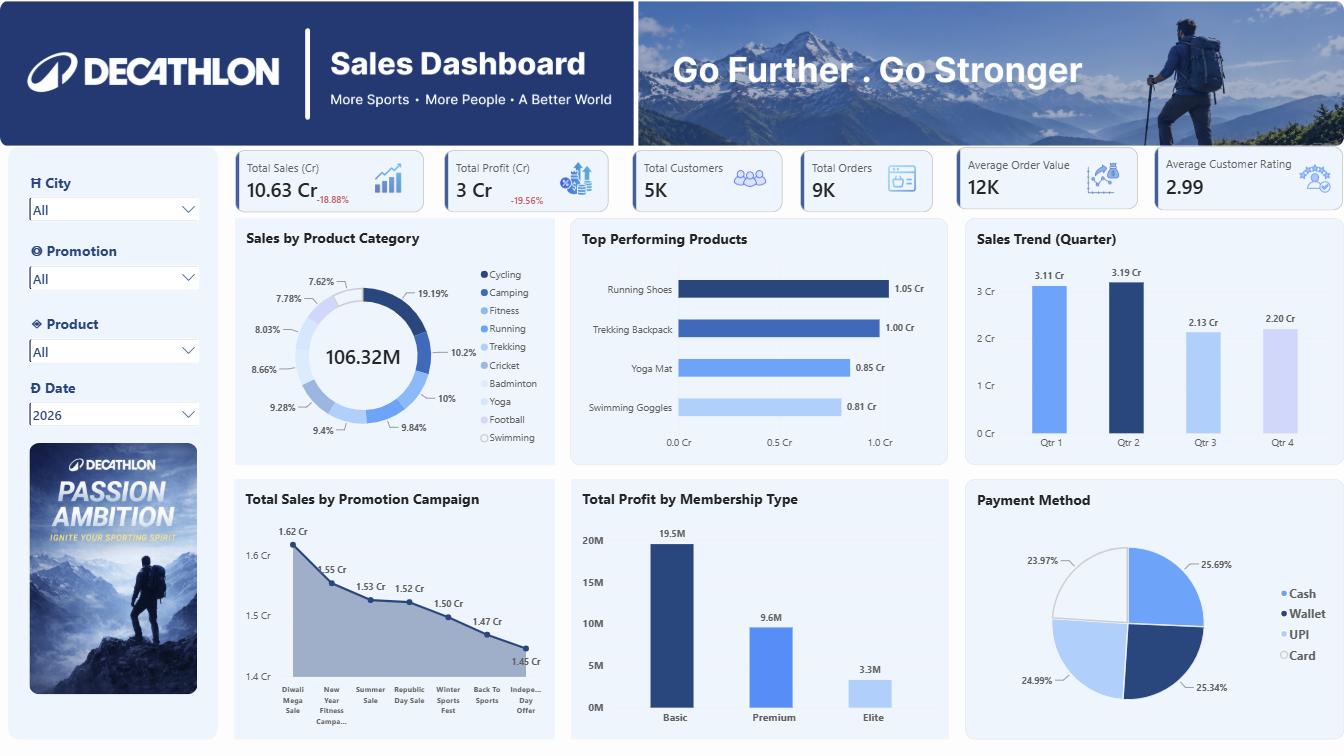

This screenshot's page, from the dashboard's own definition file:
{"tool":"powerbi","page":{"name":"Page 1","canvas":[1920,1080],"ordinal":0},"visuals":[{"type":"cardVisual","fields":{"Data":["Sheet1.Total Profit (Cr)"]},"box":[634.4,214.4,235.6,89.3],"z":0},{"type":"image","box":[0,0,1920,210.1],"z":1000},{"type":"cardVisual","fields":{"Data":["Sheet1.Total Sales (Cr)"]},"box":[335.6,214.4,271,89.3],"z":2000},{"type":"cardVisual","fields":{"Data":["Date.Sales YOY"]},"box":[432,272,77.5,25.8],"z":3000},{"type":"donutChart","title":"Sales by Product Category","fields":{"Category":["Sheet1.Product_Category"],"Y":["Sum(Sheet1.Final_Amount)"]},"box":[335.7,311,457.3,352.6],"z":4000},{"type":"barChart","title":"Top Performing Products","fields":{"Category":["Sheet1.Product_Name"],"Y":["Sheet1.Total Sales (Cr)"]},"box":[814.5,311,540.4,352.6],"z":5000},{"type":"columnChart","title":"Sales Trend (Quarter)","fields":{"Category":["Date.Date.Variation.Date Hierarchy.Quarter"],"Y":["Sheet1.Total Sales (Cr)"]},"box":[1378,311,542,352.6],"z":6000},{"type":"cardVisual","fields":{"Data":["Sheet1.Total Customers"]},"box":[903.3,214.4,215.6,89.3],"z":7000},{"type":"cardVisual","fields":{"Data":["Sheet1.Total Orders"]},"box":[1143.3,214.4,190.9,89.3],"z":8000},{"type":"cardVisual","fields":{"Data":["Sheet1.Average Order Value"]},"box":[1365.7,209.4,260.2,89.3],"z":9000},{"type":"cardVisual","fields":{"Data":["Sheet1.Average Customer Rating"]},"box":[1649,207.9,271,92.4],"z":10000},{"type":"cardVisual","fields":{"Data":["Date.Profit YOY"]},"box":[713,273,77,24],"z":11000},{"type":"shape","box":[11.7,210,300,846.7],"z":11500},{"type":"pieChart","title":"Payment Method","fields":{"Category":["Sheet1.Payment_Method"],"Y":["Sheet1.Total Orders"]},"box":[1378.3,685,541.7,371.7],"z":12000},{"type":"columnChart","title":"Total Profit by Membership Type","fields":{"Category":["Sheet1.Membership_Type"],"Y":["Sheet1.Total Profit"]},"box":[815,685,540,371.7],"z":13000},{"type":"lineChart","title":"Total Sales by Promotion Campaign","fields":{"Category":["Sheet1.Promotion_Campaign"],"Y":["Sheet1.Total Sales (Cr)"]},"box":[335,685,458.3,371.7],"z":15000},{"type":"image","box":[520,232.2,68.9,43.3],"z":16000},{"type":"image","box":[793.3,231.7,60,46.7],"z":17000},{"type":"image","box":[1041.7,231.7,60,46.7],"z":18000},{"type":"image","box":[1258.3,231.7,60,46.7],"z":19000},{"type":"image","box":[1545,231.7,60,46.7],"z":20000},{"type":"image","box":[1848.3,231.7,60,46.7],"z":21000},{"type":"slicer","fields":{"Values":["Sheet1.City"]},"box":[35,247,254,75],"z":22000},{"type":"slicer","fields":{"Values":["Sheet1.Promotion_Campaign"]},"box":[35,345,254,75],"z":23000},{"type":"slicer","fields":{"Values":["Sheet1.Product_Name"]},"box":[35.7,448.6,254,75],"z":24000},{"type":"slicer","fields":{"Values":["Date.Date.Variation.Date Hierarchy.Year"]},"box":[35.7,540,254,75],"z":24001},{"type":"image","box":[41.4,632.9,241.4,358.6],"z":24002}]}

Visuals, with their boxes in screenshot pixels (x1, y1, x2, y2), scaled from the page's 1920x1080 canvas onto the 1344x756 screenshot:
cardVisual - Sheet1.Total Profit (Cr): [444,150,609,213]
image: [0,0,1343,147]
cardVisual - Sheet1.Total Sales (Cr): [235,150,425,213]
cardVisual - Date.Sales YOY: [302,190,357,208]
"Sales by Product Category" donutChart: [235,218,555,465]
"Top Performing Products" barChart: [570,218,948,465]
"Sales Trend (Quarter)" columnChart: [965,218,1343,465]
cardVisual - Sheet1.Total Customers: [632,150,783,213]
cardVisual - Sheet1.Total Orders: [800,150,934,213]
cardVisual - Sheet1.Average Order Value: [956,147,1138,209]
cardVisual - Sheet1.Average Customer Rating: [1154,146,1343,210]
cardVisual - Date.Profit YOY: [499,191,553,208]
shape: [8,147,218,740]
"Payment Method" pieChart: [965,479,1343,740]
"Total Profit by Membership Type" columnChart: [570,479,948,740]
"Total Sales by Promotion Campaign" lineChart: [234,479,555,740]
image: [364,163,412,193]
image: [555,162,597,195]
image: [729,162,771,195]
image: [881,162,923,195]
image: [1082,162,1124,195]
image: [1294,162,1336,195]
slicer - Sheet1.City: [24,173,202,225]
slicer - Sheet1.Promotion_Campaign: [24,241,202,294]
slicer - Sheet1.Product_Name: [25,314,203,367]
slicer - Date.Date.Variation.Date Hierarchy.Year: [25,378,203,430]
image: [29,443,198,694]
